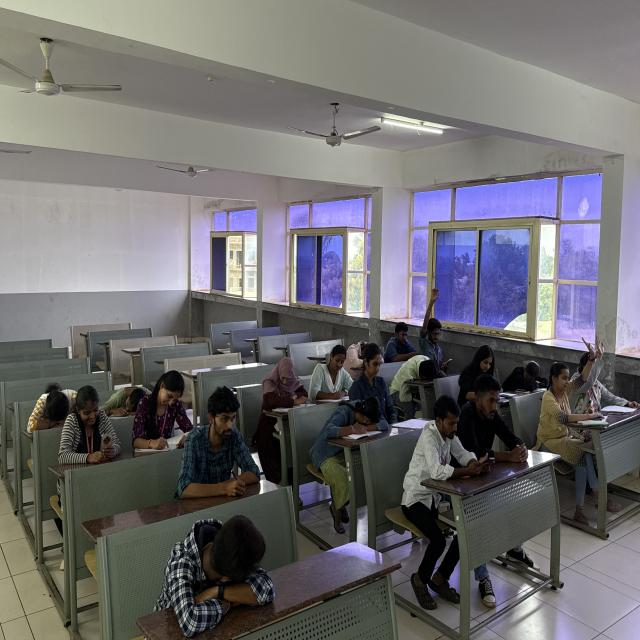Hand Rising: (542, 330, 597, 431), (574, 330, 615, 422), (419, 284, 446, 362)
Reading: (359, 344, 413, 432), (262, 354, 308, 415)
Sleeping: (311, 393, 392, 460), (24, 379, 86, 434), (96, 372, 157, 425), (389, 350, 447, 390), (500, 359, 551, 398), (344, 336, 391, 372)
Using Phone: (408, 392, 498, 492), (57, 382, 124, 469)
Writing: (175, 385, 269, 499), (126, 370, 197, 456), (306, 342, 358, 404)
